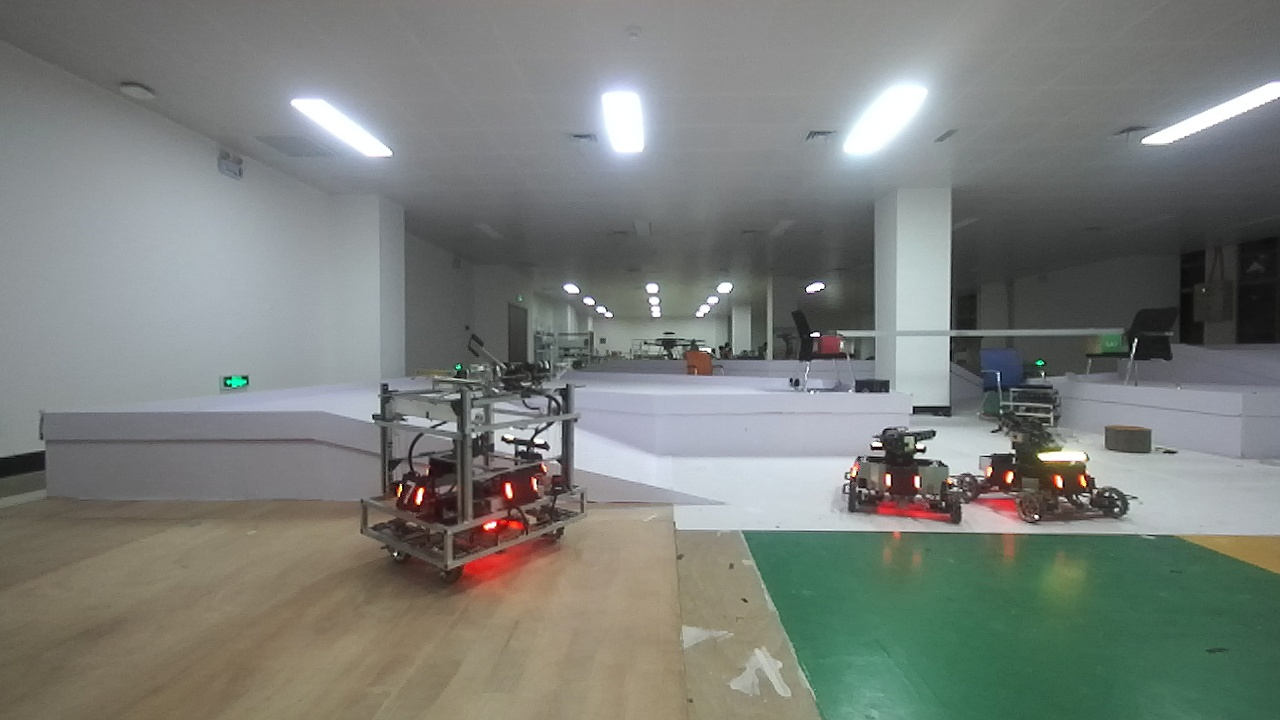car: (352, 362, 608, 597), (955, 399, 1155, 543), (832, 409, 968, 542)
